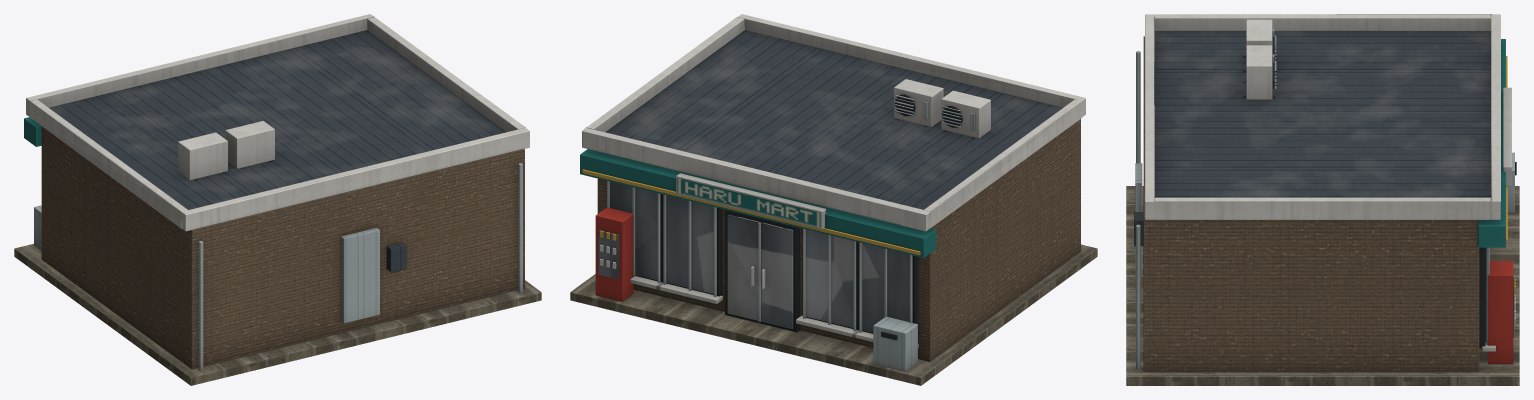
File: shop_001.obj
The picture shows the model from 3 angles, left to right: view 1: azimuth 30°, elevation 25°; view 2: azimuth 150°, elevation 25°; view 3: azimuth 270°, elevation 25°; orthographic projection. The views are drawn at different scales.
Visible parts, largest first — view 1: shop_001; view 2: shop_001; view 3: shop_001.
Part boxes in pixels (bbox=[...]): shop_001: bbox=[14, 14, 541, 385]; shop_001: bbox=[570, 14, 1097, 385]; shop_001: bbox=[1126, 14, 1519, 385].
Size of the model in its own units: 7.8 by 3.9 by 6.8.
1 material, 1 textured.
